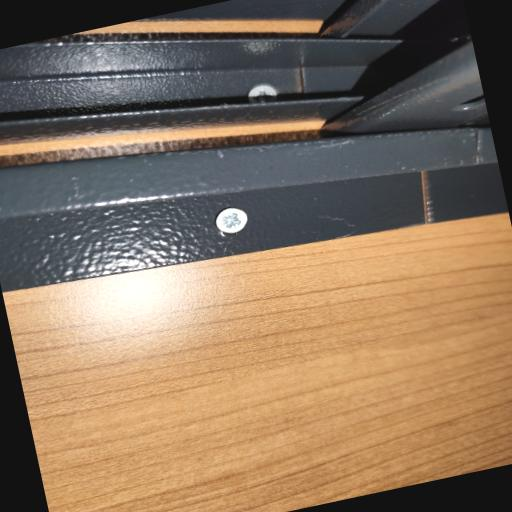Pozidriv: (208, 199, 254, 241), (243, 78, 279, 106)
